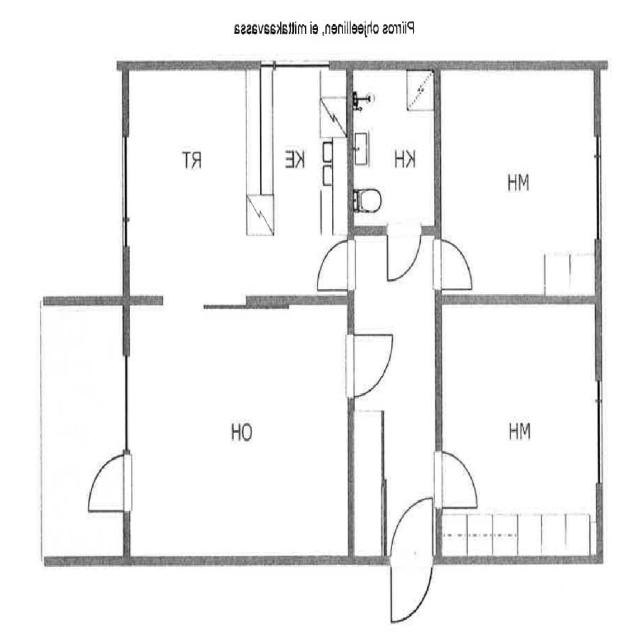door: (384, 483, 436, 628), (379, 224, 474, 288), (80, 442, 136, 522), (342, 324, 396, 401), (427, 442, 481, 513), (432, 232, 479, 295), (311, 235, 358, 295), (383, 223, 425, 286)
window: (588, 358, 610, 497), (587, 118, 608, 244)
zone: (121, 304, 356, 567), (436, 299, 604, 561), (435, 64, 597, 304), (124, 61, 260, 303), (246, 61, 350, 301), (351, 66, 438, 232)
